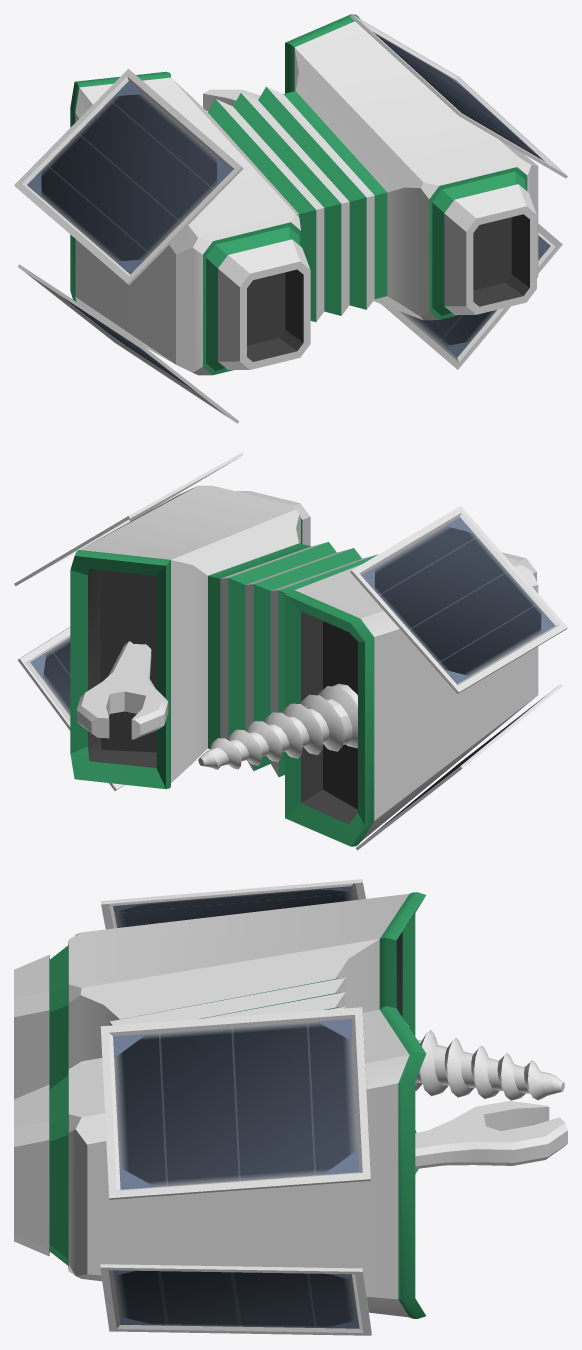
File: SatelliteRepair.fbx
3 views of the same model, one above another, from view 1: azimuth 30°, elevation 25°; view 2: azimuth 150°, elevation 25°; view 3: azimuth 270°, elevation 25° (orthographic). The views are drawn at different scales.
Parts seen in each view (by area): view 1: SatteliteRepair, SatteliteRepairTool1; view 2: SatteliteRepair, SatteliteRepairTool2, SatteliteRepairTool1; view 3: SatteliteRepair, SatteliteRepairTool1, SatteliteRepairTool2.
Boxes of the visible parts, bbox=[...] form: SatteliteRepair: bbox=[14, 14, 567, 423]; SatteliteRepairTool1: bbox=[203, 89, 260, 111]; SatteliteRepair: bbox=[14, 452, 567, 850]; SatteliteRepairTool2: bbox=[198, 683, 357, 769]; SatteliteRepairTool1: bbox=[76, 641, 168, 739]; SatteliteRepair: bbox=[14, 879, 426, 1335]; SatteliteRepairTool1: bbox=[415, 1101, 567, 1168]; SatteliteRepairTool2: bbox=[406, 1023, 564, 1100].
Size of the model in its own units: 4.99 by 2.96 by 4.57.
